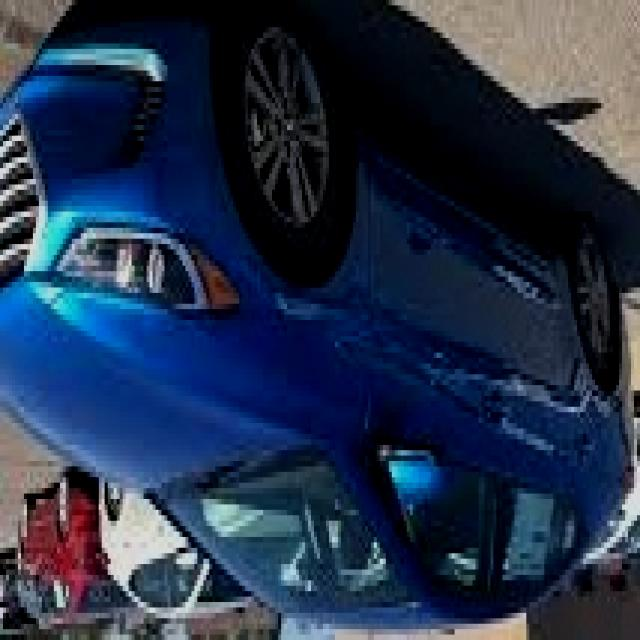blue: (0, 6, 634, 634)
red: (15, 482, 100, 626)
white: (104, 500, 197, 622)
